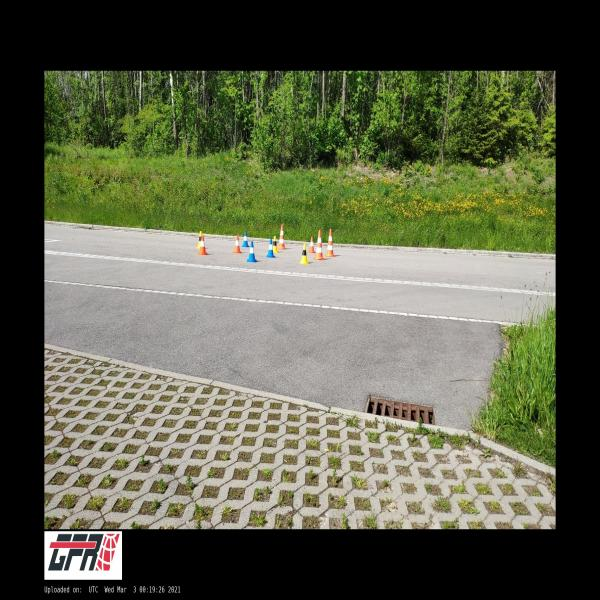blue_cone: (248, 242, 256, 262), (266, 239, 274, 257), (242, 232, 249, 247)
large_orange_cone: (313, 230, 324, 261), (326, 229, 335, 257), (278, 224, 286, 250)
orange_cone: (198, 236, 207, 254), (233, 235, 241, 253), (308, 237, 315, 253)
yellow_cone: (300, 245, 309, 264), (196, 230, 202, 248), (273, 236, 278, 252)
